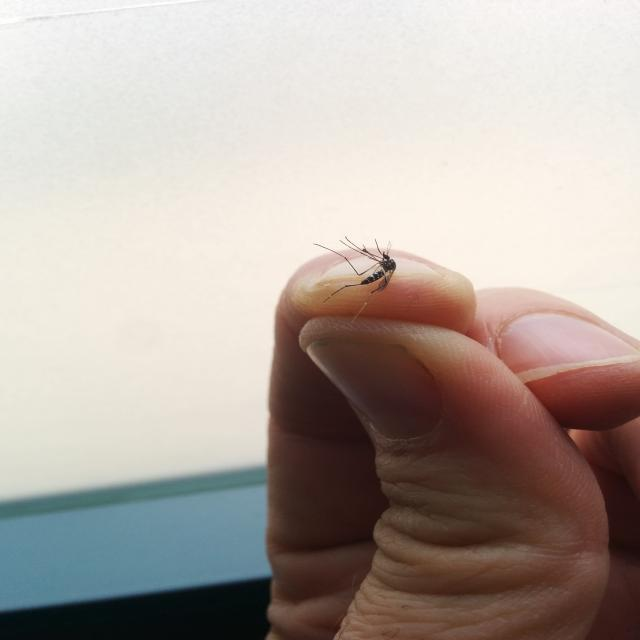albopictus: (304, 229, 404, 321)
